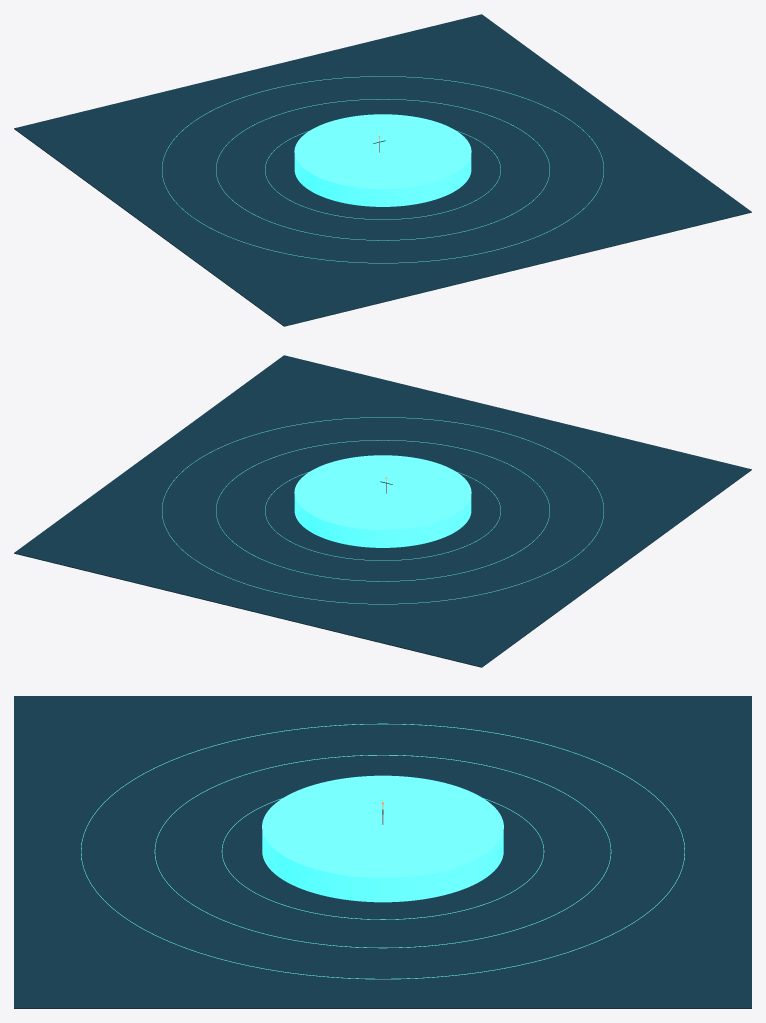
Rendered from navrakshak_vessel.glb.
The picture shows the model from 3 angles, top to bottom: view 1: azimuth 30°, elevation 25°; view 2: azimuth 150°, elevation 25°; view 3: azimuth 270°, elevation 25°; orthographic projection. The views are drawn at different scales.
Visible parts, largest first — view 1: Ocean, 3D GEOFENCE, Range Ring.004, Range Ring.003; view 2: Ocean, 3D GEOFENCE, Range Ring.004, Range Ring.003; view 3: Ocean, 3D GEOFENCE, Range Ring.004, Range Ring.003, Range Ring.002, GEOFENCE INNER.
Part boxes in pixels (x1,y1,x2,y2): Ocean: (14,14,751,326); 3D GEOFENCE: (294,114,471,206); Range Ring.004: (162,76,603,263); Range Ring.003: (216,99,549,240); Ocean: (14,355,751,667); 3D GEOFENCE: (294,455,471,547); Range Ring.004: (162,417,603,604); Range Ring.003: (216,440,549,581); Ocean: (14,696,751,1008); 3D GEOFENCE: (262,776,503,902); Range Ring.004: (81,723,684,979); Range Ring.003: (154,755,611,948); Range Ring.002: (221,798,544,919); GEOFENCE INNER: (262,775,503,878).
Size of the model in its own units: 110 by 7.96 by 110.
